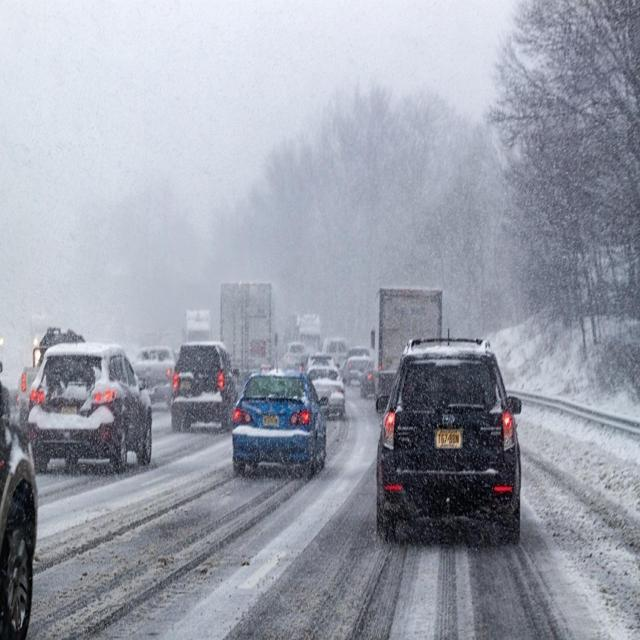Car: (373, 332, 531, 542), (19, 338, 157, 462), (227, 376, 330, 476), (165, 346, 241, 430), (131, 342, 177, 402), (308, 367, 348, 423), (344, 347, 371, 379)
Truck: (376, 280, 451, 412), (220, 278, 282, 383), (182, 304, 218, 351), (294, 305, 326, 357)
